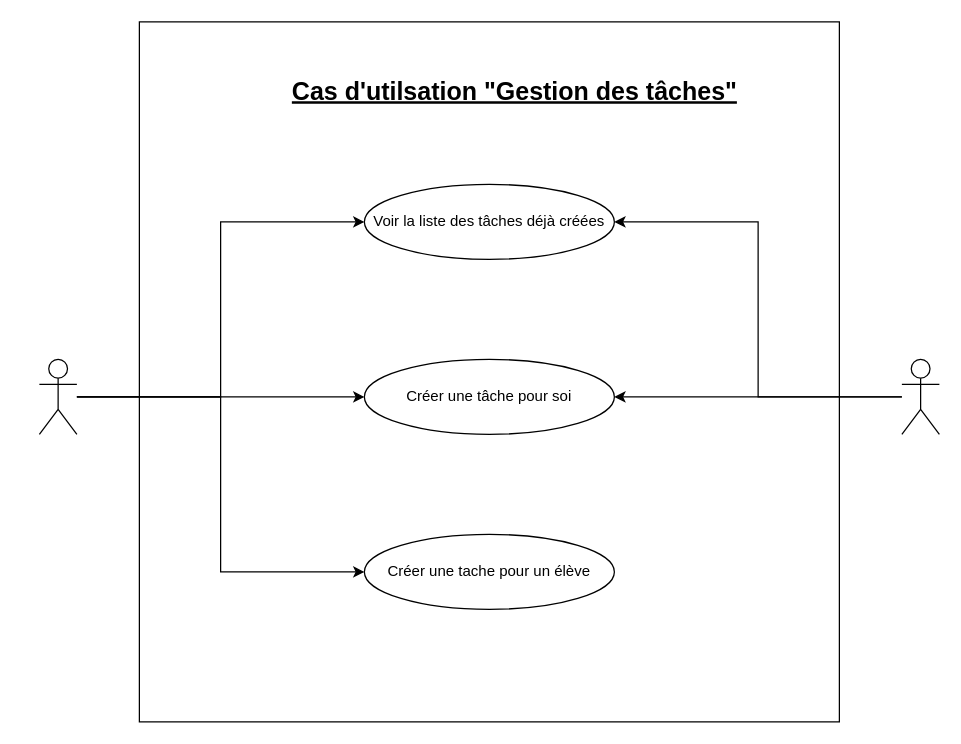
The diagram is 961 pixels wide and 744 high, and some of its shapes have lost their labels. Each missing label, with the box of its shape:
Elève: (901, 358, 939, 434)
Professeur: (38, 358, 77, 434)
